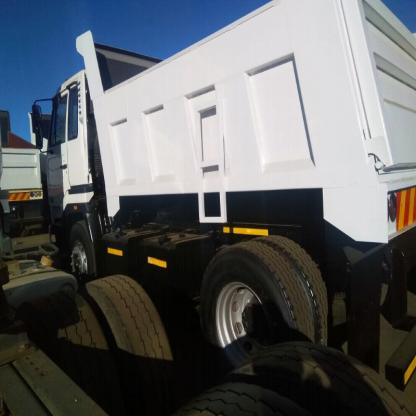dump_truck: (36, 8, 394, 384)
